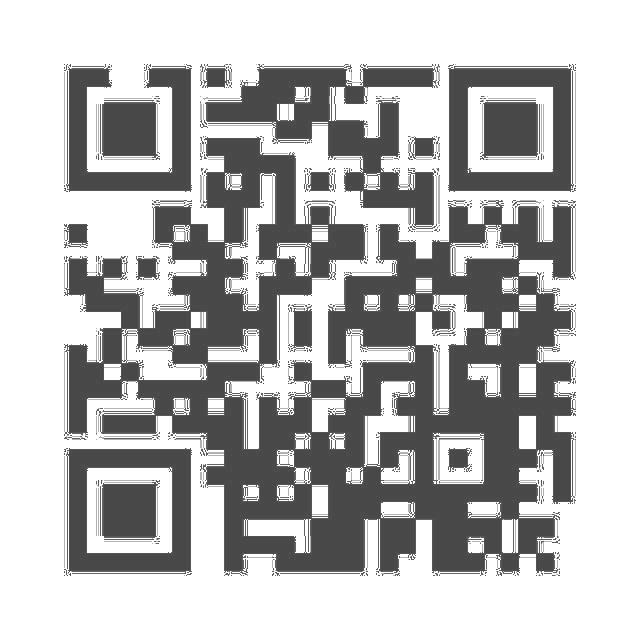qr_code: (48, 52, 591, 592)
